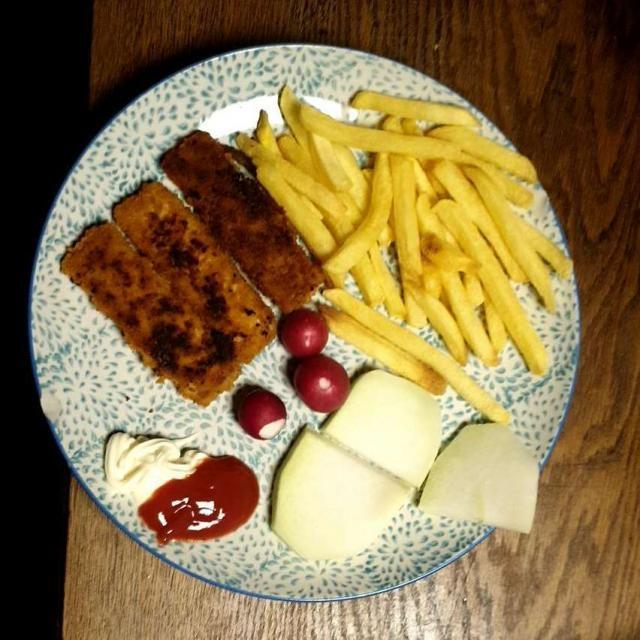chips-french-fries: (234, 82, 572, 413)
fish: (58, 128, 330, 408)
ketchup: (140, 454, 260, 539)
kolhrabi: (274, 379, 536, 563)
mayonnaise: (106, 430, 207, 496)
radish: (234, 307, 348, 435)
